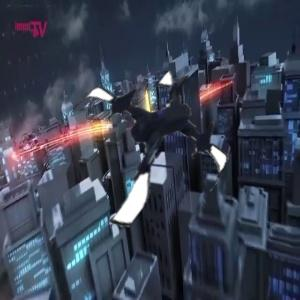drone: (62, 61, 234, 233)
